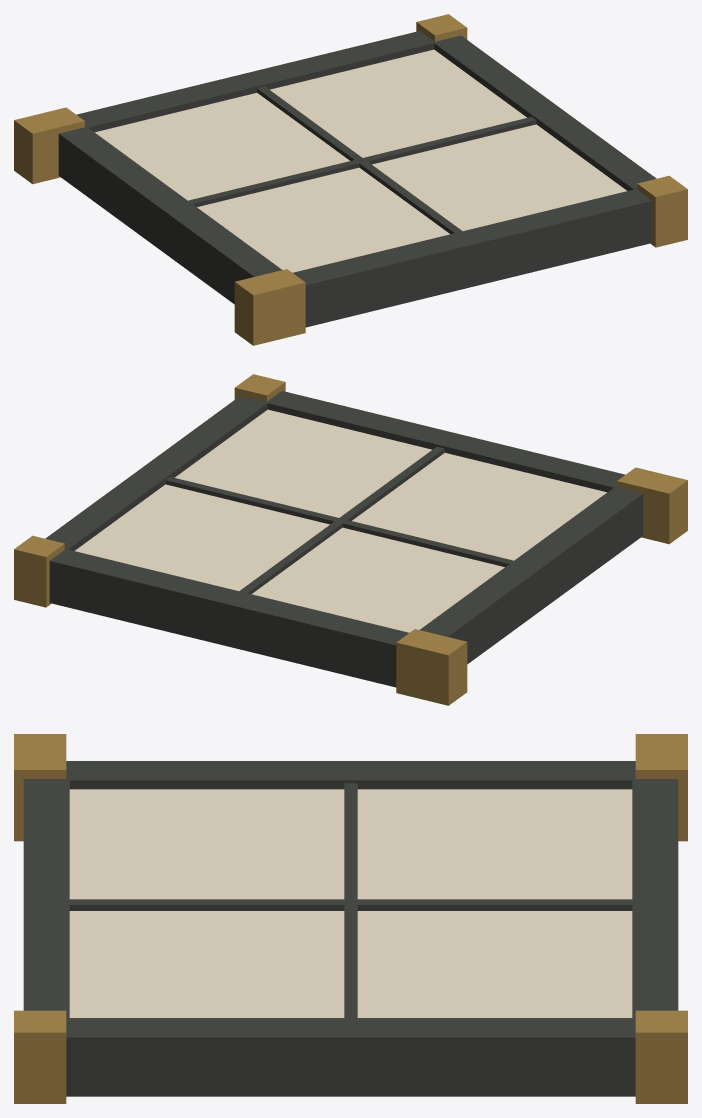
The model's file is roof_flat.glb.
The picture shows the model from 3 angles, top to bottom: view 1: azimuth 30°, elevation 25°; view 2: azimuth 150°, elevation 25°; view 3: azimuth 270°, elevation 25°; orthographic projection. The views are drawn at different scales.
Visible parts, largest first — view 1: roof_flat; view 2: roof_flat; view 3: roof_flat.
Part boxes in pixels (bbox=[...]): roof_flat: bbox=[14, 14, 687, 345]; roof_flat: bbox=[14, 374, 687, 705]; roof_flat: bbox=[14, 734, 687, 1103].
Size of the model in its own units: 2.16 by 0.24 by 2.06.
